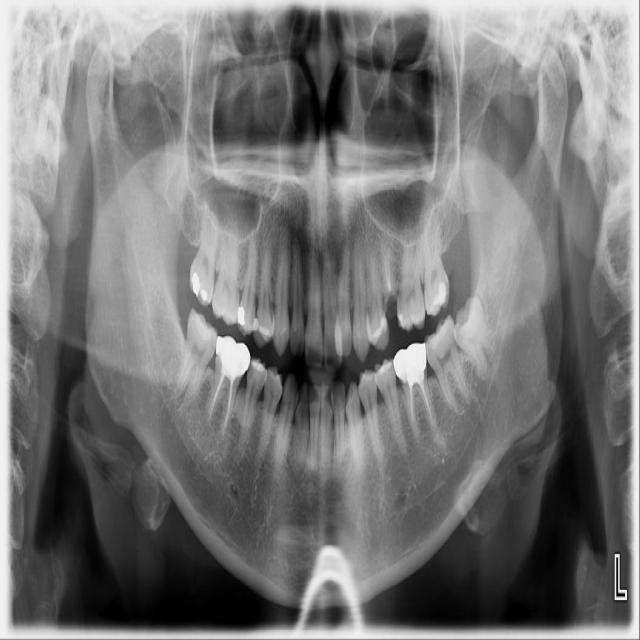Crown: (215, 335, 251, 379), (394, 341, 427, 385)
Filling: (235, 304, 259, 334), (188, 269, 210, 301), (368, 318, 389, 346), (431, 275, 447, 306), (374, 360, 392, 376), (262, 322, 273, 339), (250, 359, 264, 371)
Periapical lesion: (463, 361, 499, 407), (224, 424, 229, 431)
Root Canal Treatment: (211, 370, 226, 413), (417, 377, 431, 416), (224, 378, 234, 426), (409, 384, 417, 434)
Root Piece: (381, 239, 403, 304)
impacted tooth: (454, 296, 499, 377)
